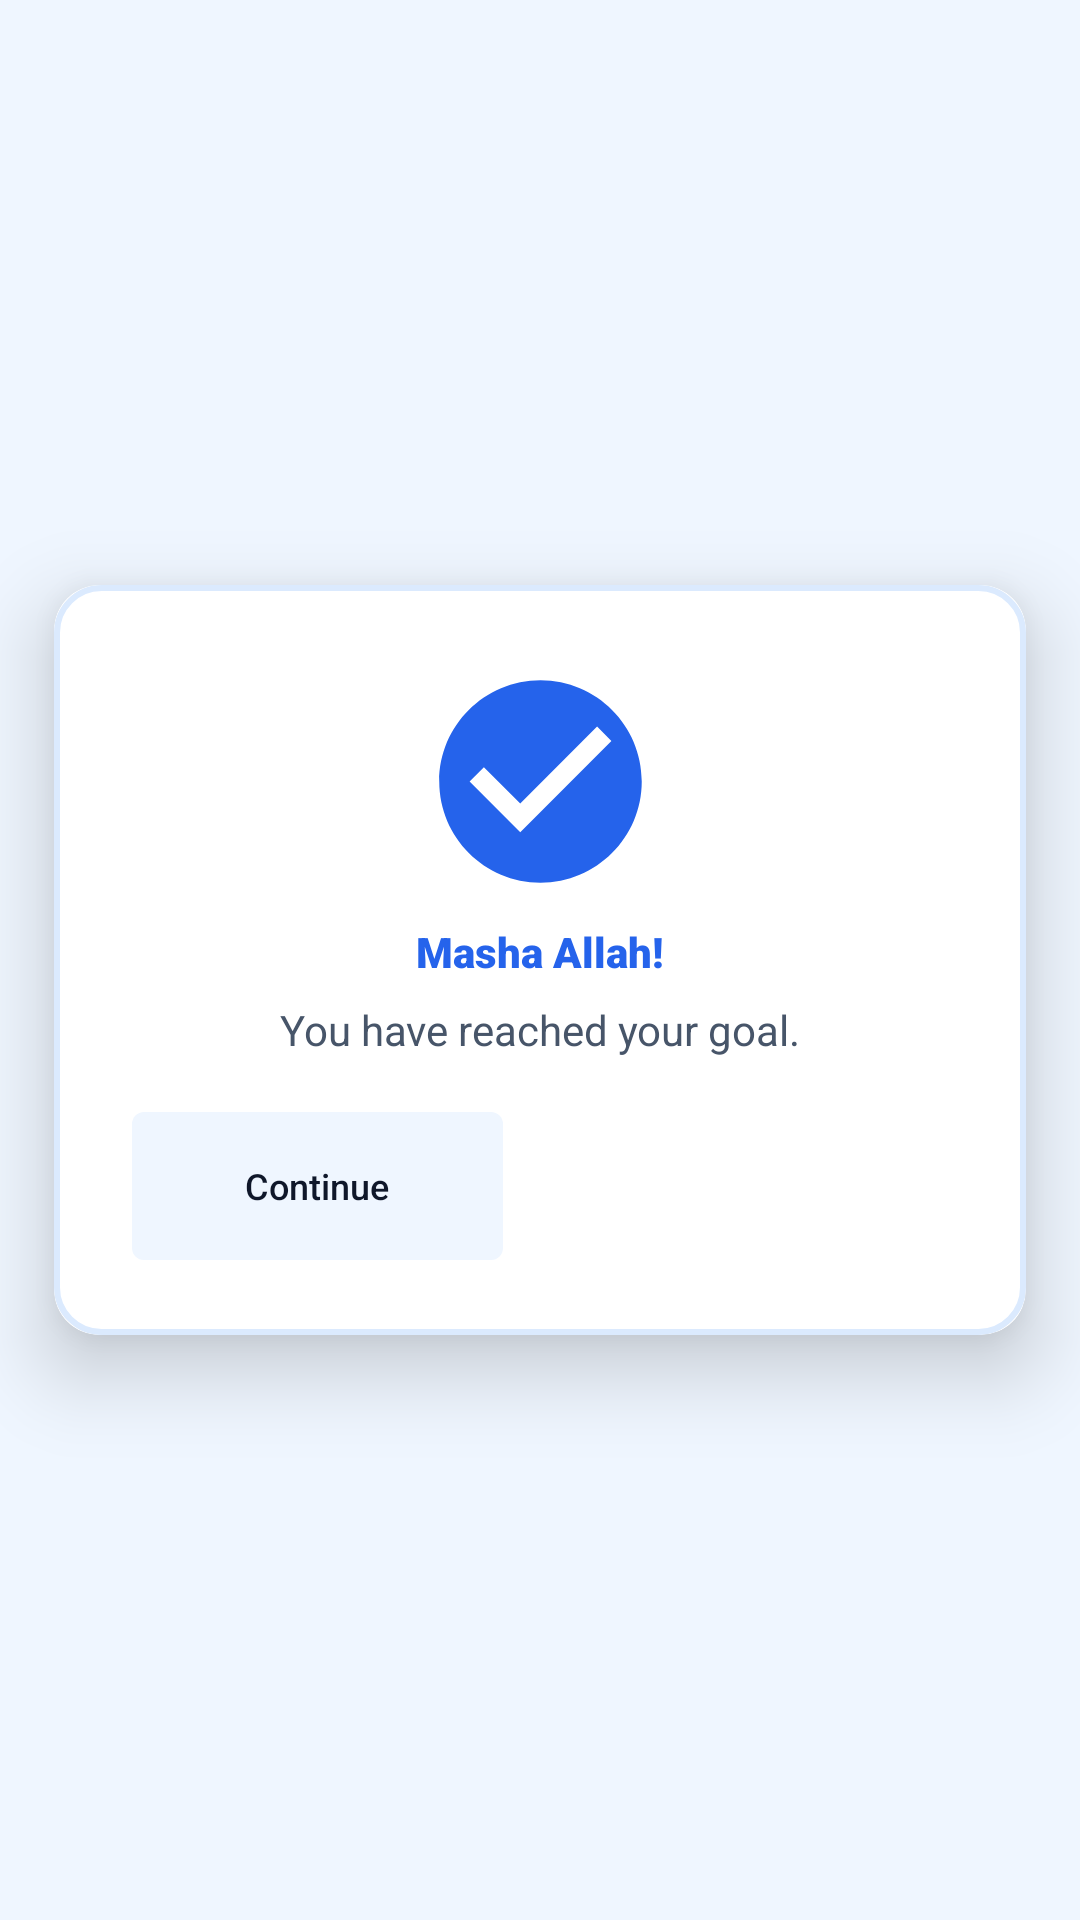

Screen size 1080x1920. Icon name, then its center in pixels as point (x, y):
Success icon: point (540, 781)
